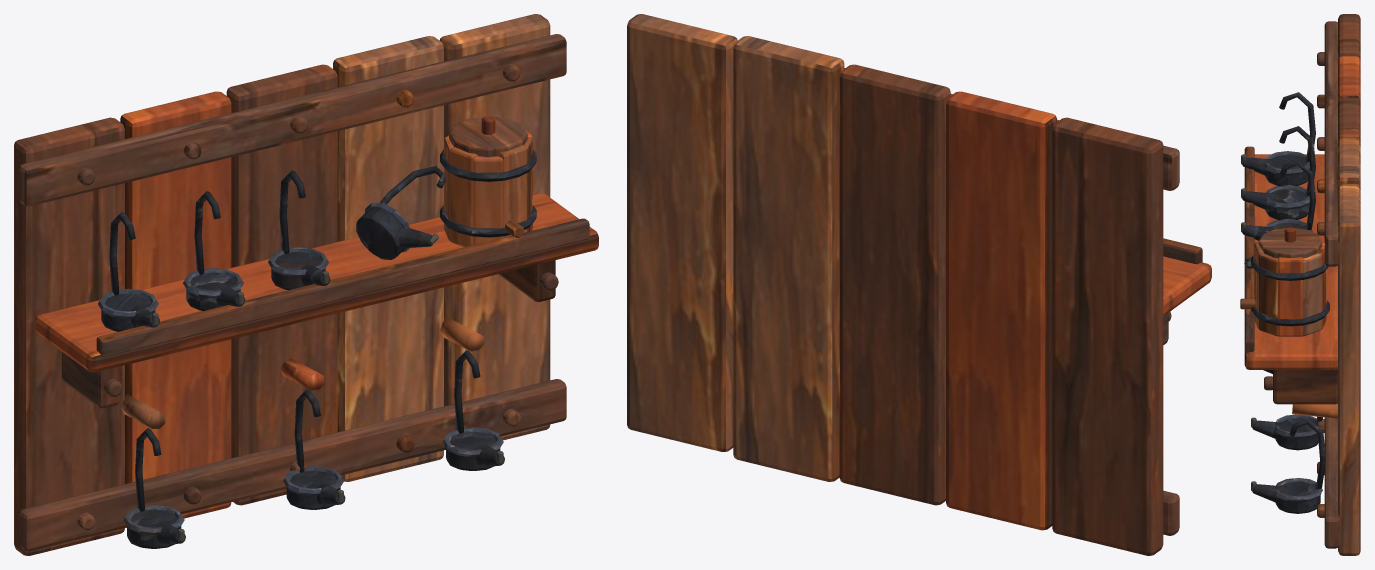
Rendered from mp_lamp_shelf.glb.
The picture shows the model from 3 angles, left to right: view 1: azimuth 30°, elevation 25°; view 2: azimuth 150°, elevation 25°; view 3: azimuth 270°, elevation 25°; orthographic projection. The views are drawn at different scales.
Parts seen in each view (by area): view 1: model; view 2: model; view 3: model.
Boxes of the visible parts, x1=… form: model: x1=14, y1=14, x2=598, y2=555; model: x1=627, y1=14, x2=1211, y2=555; model: x1=1240, y1=14, x2=1360, y2=555.
Size of the model in its own units: 1.02 by 0.7513 by 0.24.
13 materials, 12 textured.
